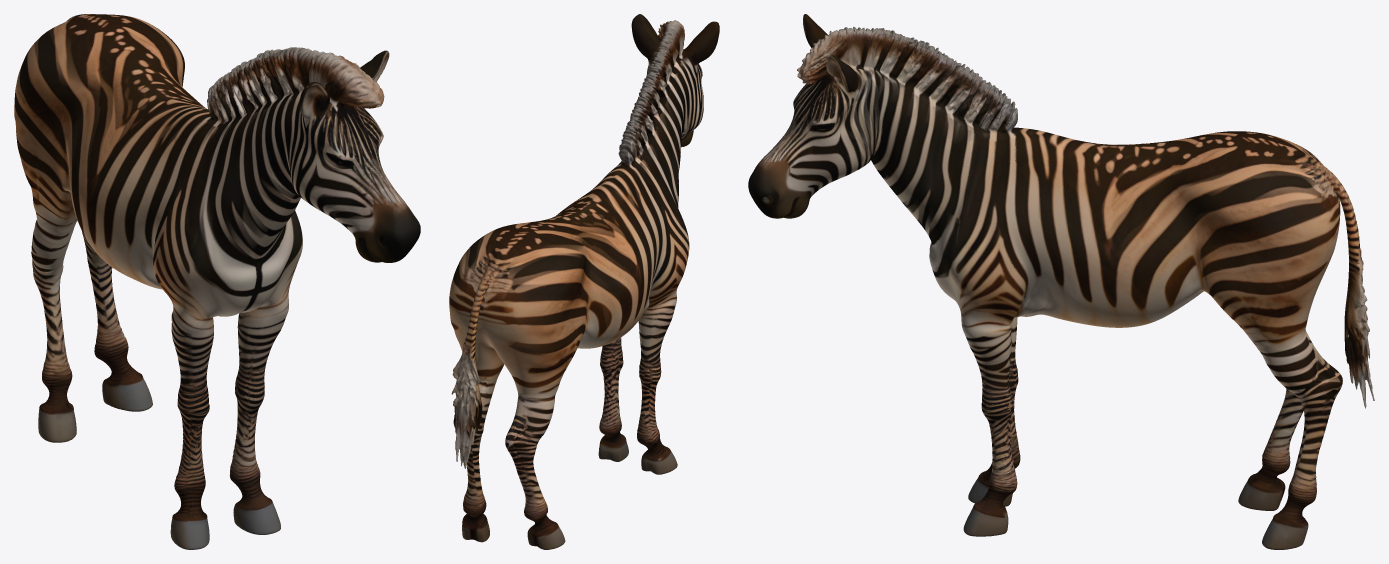
File: tripo.glb
3 renders of one model, left to right at view 1: azimuth 30°, elevation 25°; view 2: azimuth 150°, elevation 25°; view 3: azimuth 270°, elevation 25°, orthographic. The views are drawn at different scales.
Visible parts, largest first — view 1: tripo_node_dc0e5b8c-47eb-4b31-bc18-a4b6d65687e4; view 2: tripo_node_dc0e5b8c-47eb-4b31-bc18-a4b6d65687e4; view 3: tripo_node_dc0e5b8c-47eb-4b31-bc18-a4b6d65687e4.
Boxes of the visible parts, x1=… form: tripo_node_dc0e5b8c-47eb-4b31-bc18-a4b6d65687e4: x1=14, y1=14, x2=420, y2=549; tripo_node_dc0e5b8c-47eb-4b31-bc18-a4b6d65687e4: x1=449, y1=14, x2=719, y2=549; tripo_node_dc0e5b8c-47eb-4b31-bc18-a4b6d65687e4: x1=748, y1=14, x2=1374, y2=549.
Bounding box in the file's own units: 0.2812 × 0.8802 × 1.
1 material, 1 textured.
